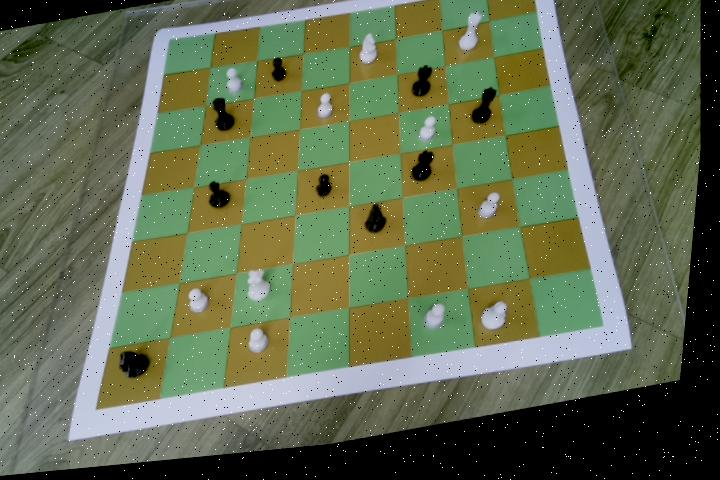chessboard-detect: (101, 0, 610, 413)
